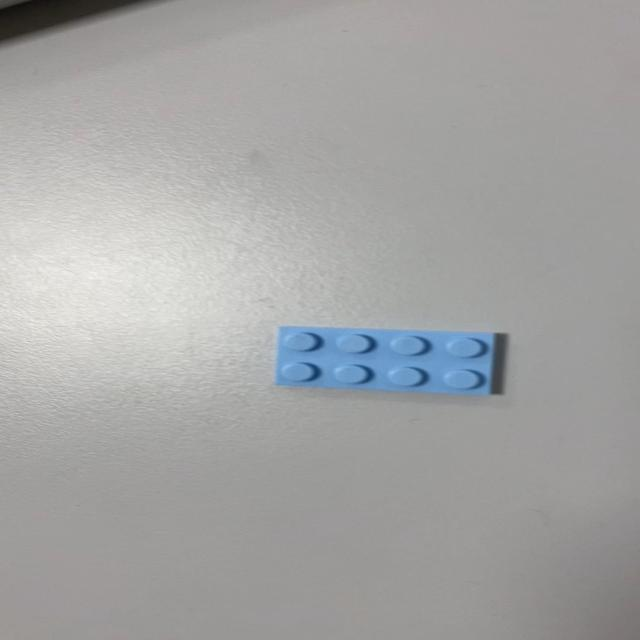C4x2x0: (272, 326, 500, 396)
